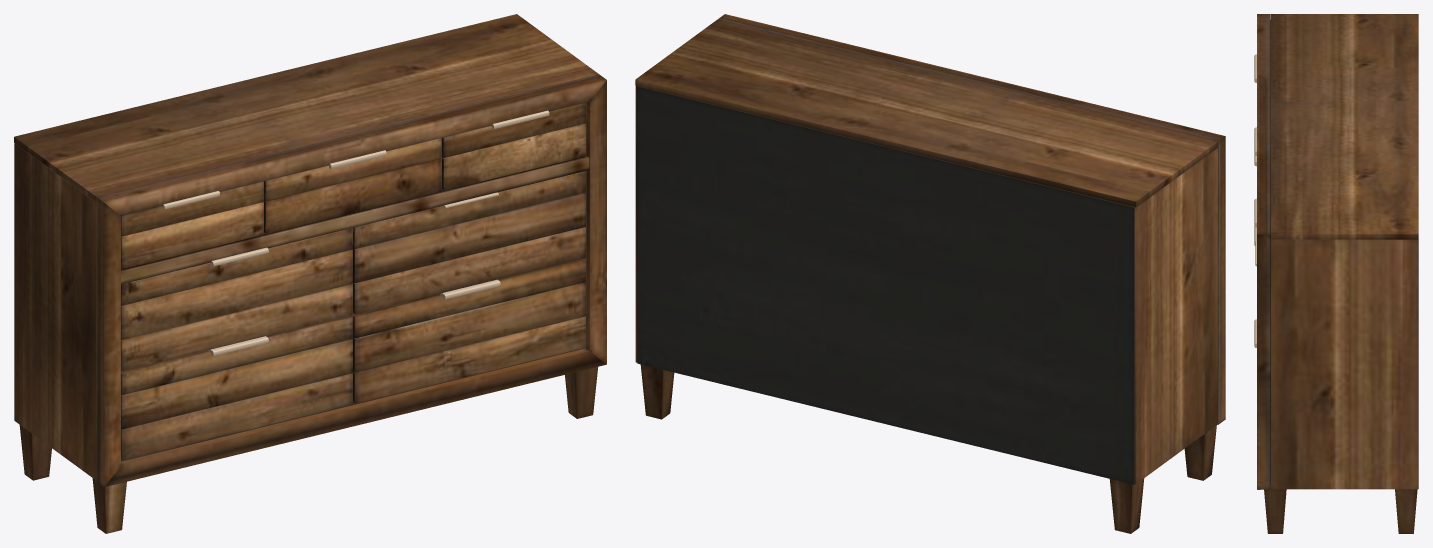
3 views of the same model, side by side, from view 1: azimuth 30°, elevation 25°; view 2: azimuth 150°, elevation 25°; view 3: azimuth 270°, elevation 25° (orthographic). The views are drawn at different scales.
Visible parts, largest first — view 1: visual_RootNode; view 2: visual_RootNode; view 3: visual_RootNode.
Part boxes in pixels (x1,y1,x2,y2): visual_RootNode: (14,14,606,533); visual_RootNode: (635,14,1225,533); visual_RootNode: (1254,14,1418,533).
Size of the model in its own units: 1.39 by 0.4382 by 0.8914.
Materials: 1 (1 with a texture image).
